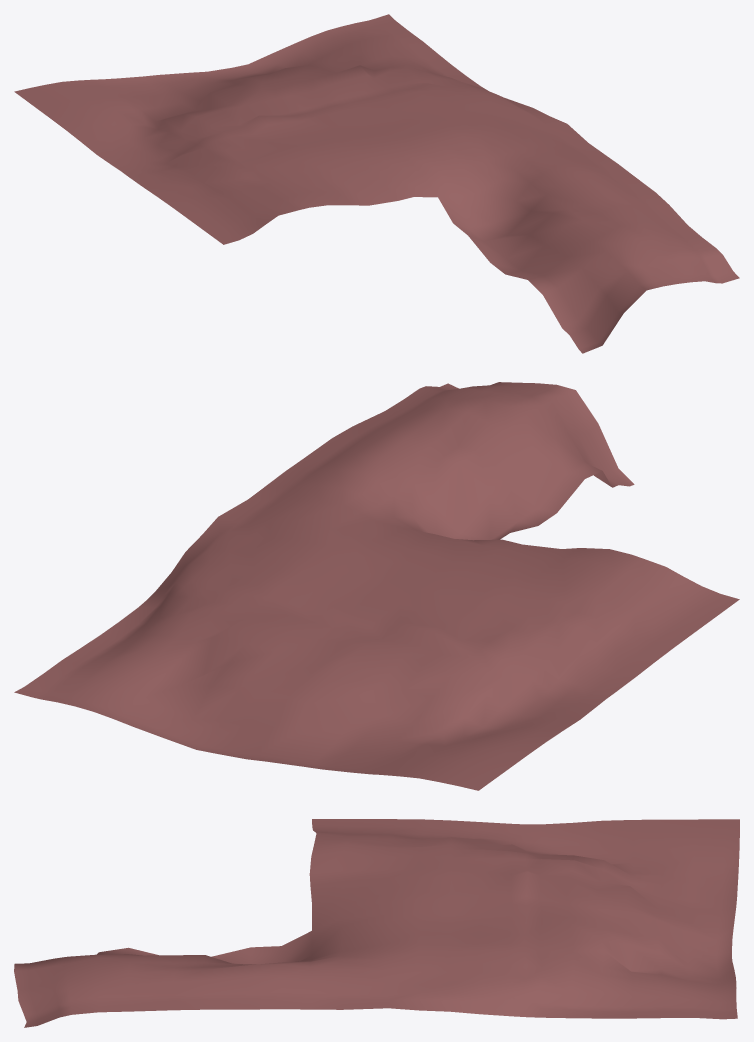
File: terr_redo_01.fbx
The picture shows the model from 3 angles, top to bottom: view 1: azimuth 30°, elevation 25°; view 2: azimuth 150°, elevation 25°; view 3: azimuth 270°, elevation 25°; orthographic projection. The views are drawn at different scales.
Visible parts, largest first — view 1: ter_terraine_uv_03; view 2: ter_terraine_uv_03; view 3: ter_terraine_uv_03.
Part boxes in pixels (bbox=[...]): ter_terraine_uv_03: bbox=[14, 14, 739, 353]; ter_terraine_uv_03: bbox=[14, 382, 739, 790]; ter_terraine_uv_03: bbox=[14, 819, 739, 1027].
Size of the model in its own units: 277 by 55.27 by 447.
